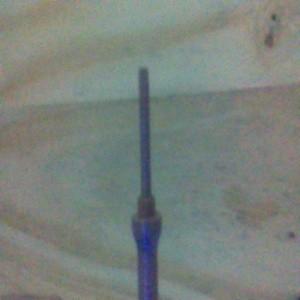obeng: (130, 66, 163, 300)
